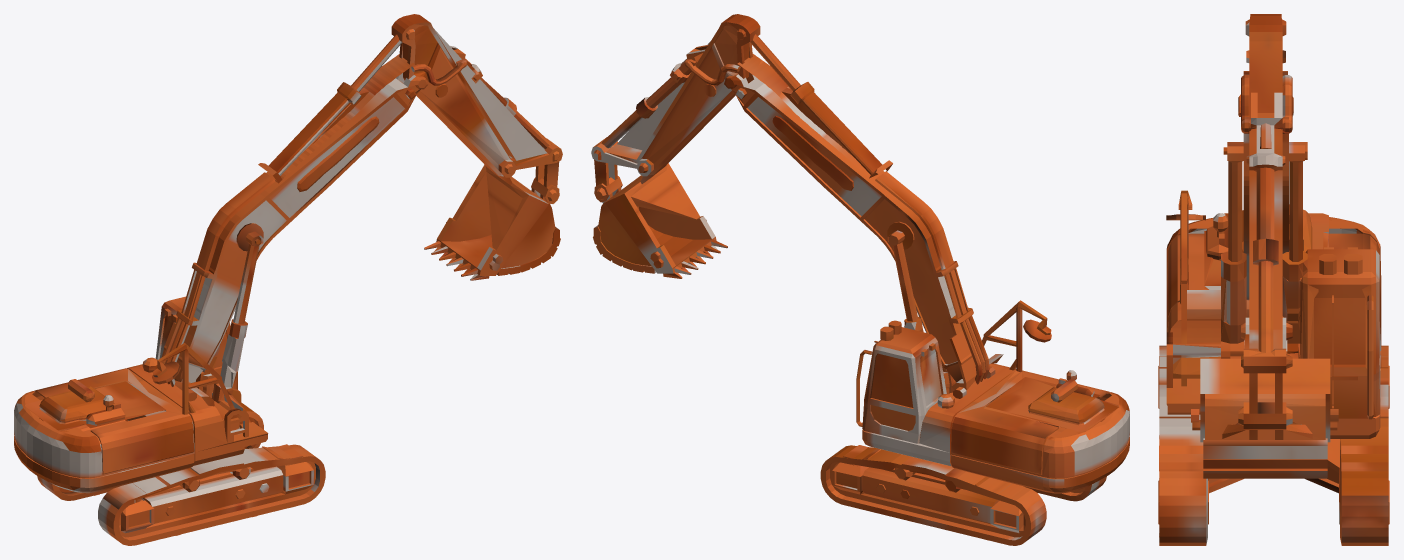
The model's file is komatsu.obj.
3 renders of one model, left to right at view 1: azimuth 30°, elevation 25°; view 2: azimuth 150°, elevation 25°; view 3: azimuth 270°, elevation 25°, orthographic. The views are drawn at different scales.
Parts seen in each view (by area): view 1: texture_pbr_v128; view 2: texture_pbr_v128; view 3: texture_pbr_v128.
Boxes of the visible parts, x1,y1,x2,y2 form: texture_pbr_v128: (14, 14, 562, 545); texture_pbr_v128: (591, 14, 1129, 545); texture_pbr_v128: (1158, 14, 1389, 545).
Size of the model in its own units: 1.06 by 0.8192 by 0.2729.
